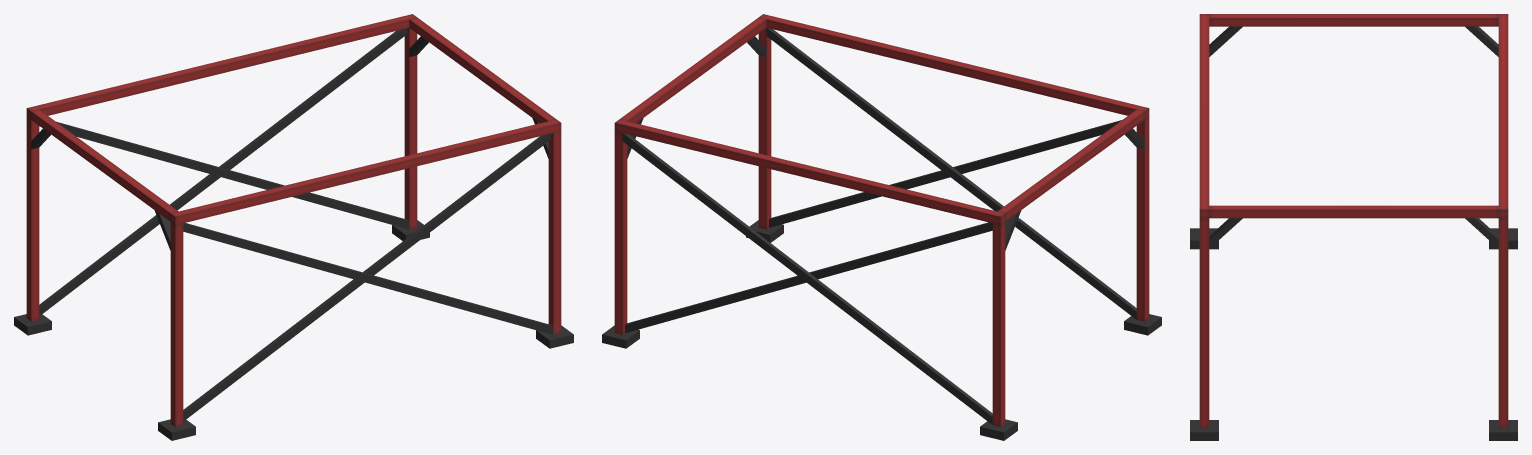
Rendered from Scaffolding1.obj.
The picture shows the model from 3 angles, left to right: view 1: azimuth 30°, elevation 25°; view 2: azimuth 150°, elevation 25°; view 3: azimuth 270°, elevation 25°; orthographic projection. The views are drawn at different scales.
Parts seen in each view (by area): view 1: cuboid; view 2: cuboid; view 3: cuboid.
Part boxes in pixels (left/top/right/bottom): cuboid: left=14, top=14, right=573, bottom=440; cuboid: left=602, top=14, right=1161, bottom=440; cuboid: left=1190, top=14, right=1517, bottom=440.
Size of the model in its own units: 3.12 by 1.62 by 2.12.
1 material, 1 textured.
